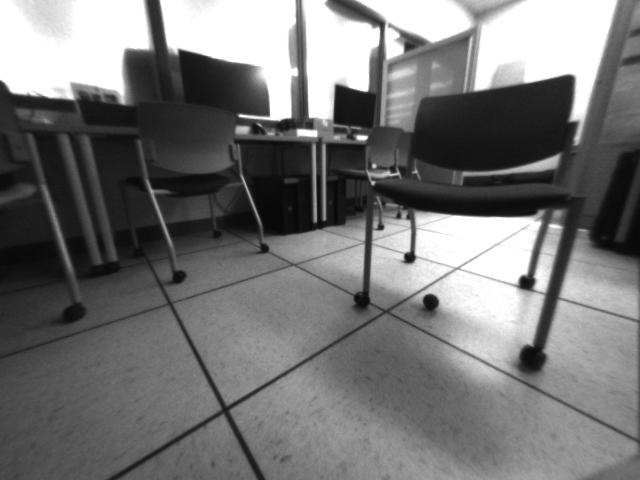dogtoy: (419, 287, 443, 316)
